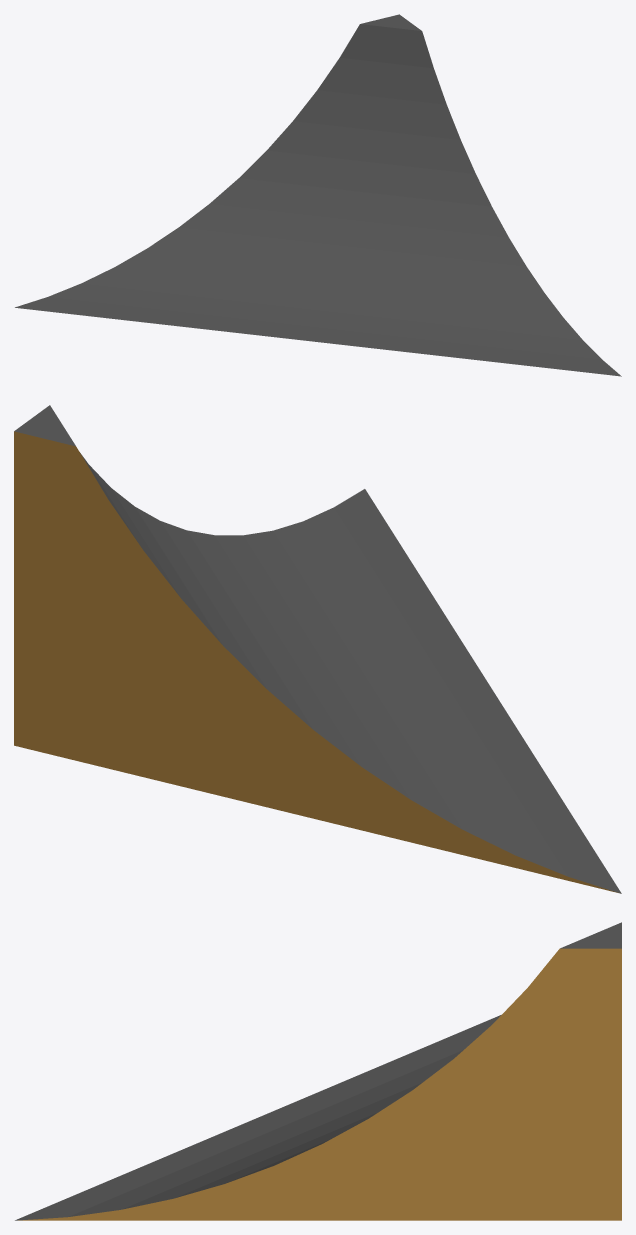
File: Skate_Ramp_Curved_w_Back_Corner_01.FBX
3 renders of one model, top to bottom at view 1: azimuth 30°, elevation 25°; view 2: azimuth 150°, elevation 25°; view 3: azimuth 270°, elevation 25°, orthographic. The views are drawn at different scales.
Visible parts, largest first — view 1: Skate_Ramp_Curved_w_Back_Corner_01; view 2: Skate_Ramp_Curved_w_Back_Corner_01; view 3: Skate_Ramp_Curved_w_Back_Corner_01.
Part boxes in pixels (x1=…): Skate_Ramp_Curved_w_Back_Corner_01: x1=15, y1=14, x2=621, y2=376; Skate_Ramp_Curved_w_Back_Corner_01: x1=14, y1=405, x2=621, y2=893; Skate_Ramp_Curved_w_Back_Corner_01: x1=15, y1=922, x2=621, y2=1220.
Bounding box in the file's own units: 3000 × 1482 × 3000.
